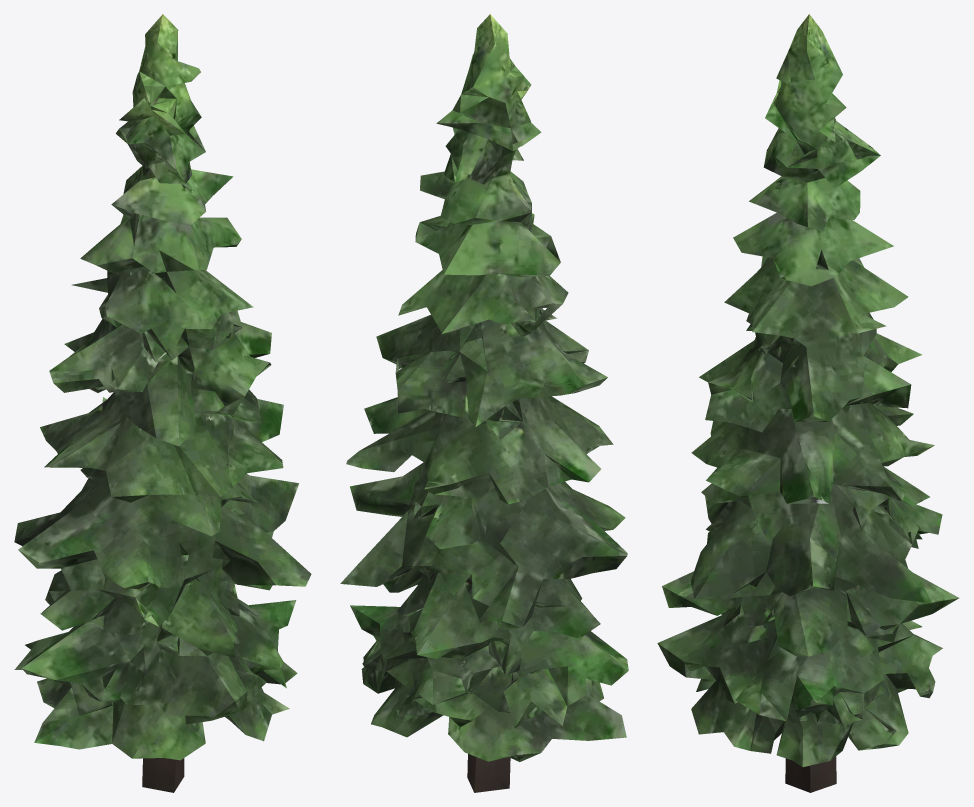
File: spruce.glb
The picture shows the model from 3 angles, left to right: view 1: azimuth 30°, elevation 25°; view 2: azimuth 150°, elevation 25°; view 3: azimuth 270°, elevation 25°; orthographic projection.
Visible parts, largest first — view 1: spruce.raw; view 2: spruce.raw; view 3: spruce.raw.
Part boxes in pixels (x1,y1,x2,y2): spruce.raw: [14, 14, 311, 792]; spruce.raw: [340, 14, 628, 792]; spruce.raw: [657, 14, 958, 792].
Size of the model in its own units: 5.96 by 15.69 by 5.58.
Materials: 1 (1 with a texture image).
